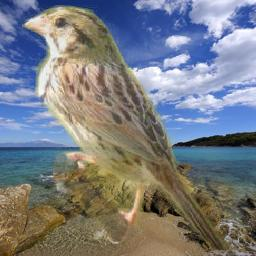Sparrow: (23, 2, 232, 251)
